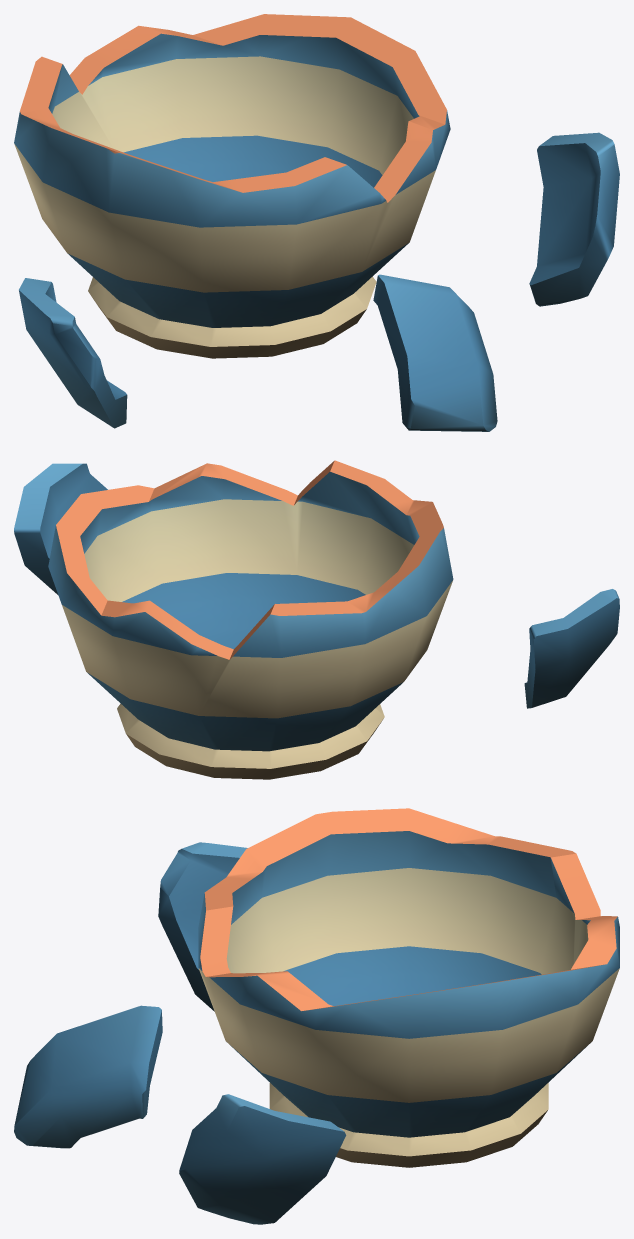
The model's file is vase_broken.glb.
3 renders of one model, top to bottom at view 1: azimuth 30°, elevation 25°; view 2: azimuth 150°, elevation 25°; view 3: azimuth 270°, elevation 25°, orthographic. The views are drawn at different scales.
Parts seen in each view (by area): view 1: Item; view 2: Item; view 3: Item.
Boxes of the visible parts, box(x1,y1,x2,y2) form: Item: box(14, 14, 619, 431); Item: box(14, 460, 619, 779); Item: box(14, 808, 619, 1224).
Size of the model in its own units: 1.94 by 0.6977 by 1.74.
Materials: 2 (2 with a texture image).
